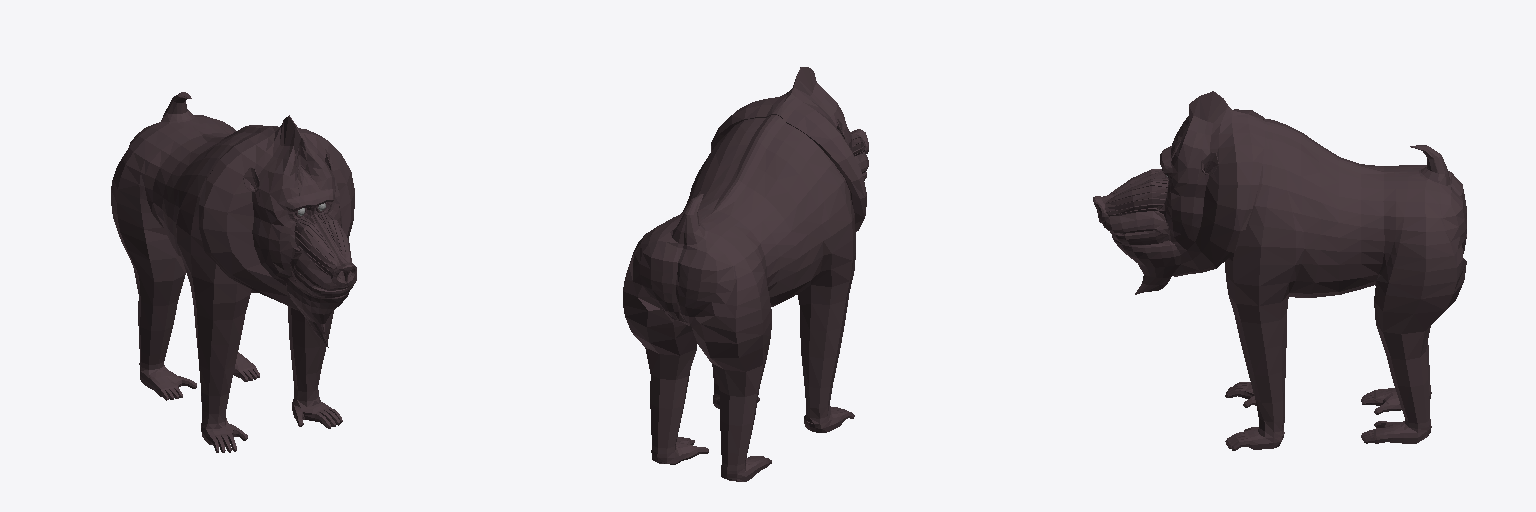
Rendered from mendrill01.obj.
The picture shows the model from 3 angles: view 1: azimuth 30°, elevation 25°; view 2: azimuth 150°, elevation 25°; view 3: azimuth 270°, elevation 25°; orthographic projection.
Parts seen in each view (by area): view 1: Form2; view 2: Form2; view 3: Form2.
Part boxes in pixels (left/top/right/bottom): Form2: left=111, top=92, right=356, bottom=452; Form2: left=623, top=67, right=868, bottom=481; Form2: left=1093, top=91, right=1466, bottom=450.
Size of the model in its own units: 2.08 by 4.26 by 4.38.